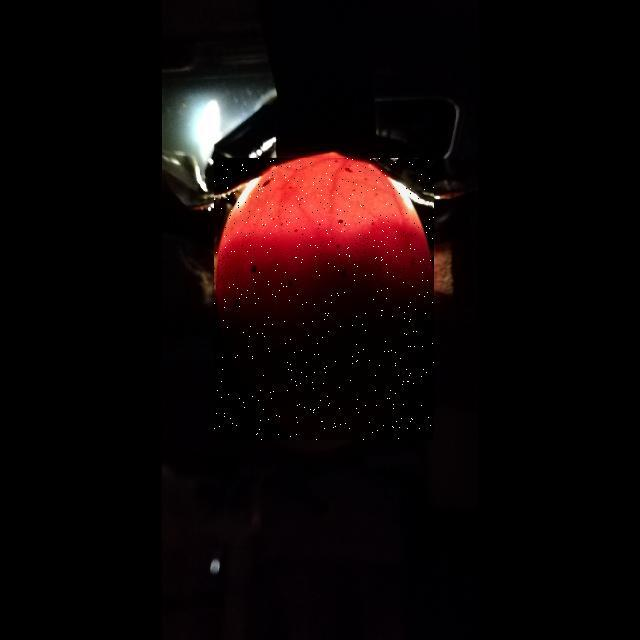Fertile: (214, 158, 434, 440)
